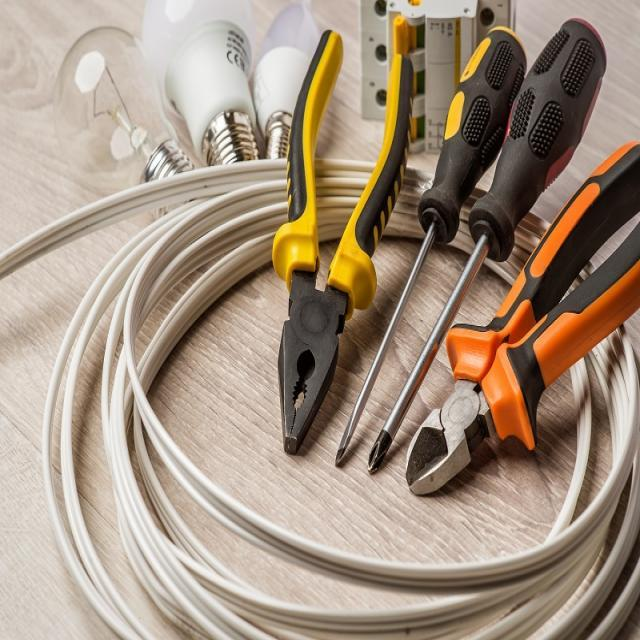pliers: (400, 142, 640, 501), (269, 28, 416, 460)
screwdriver: (365, 13, 612, 475), (326, 26, 530, 472)
